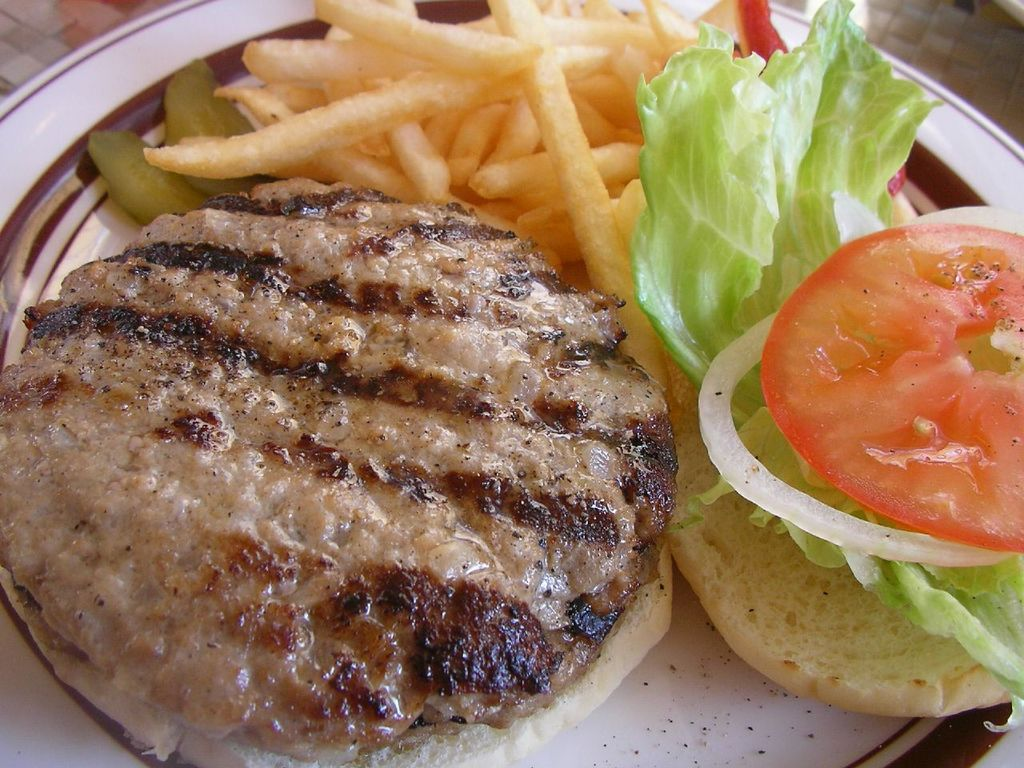French fries: (143, 5, 711, 288)
